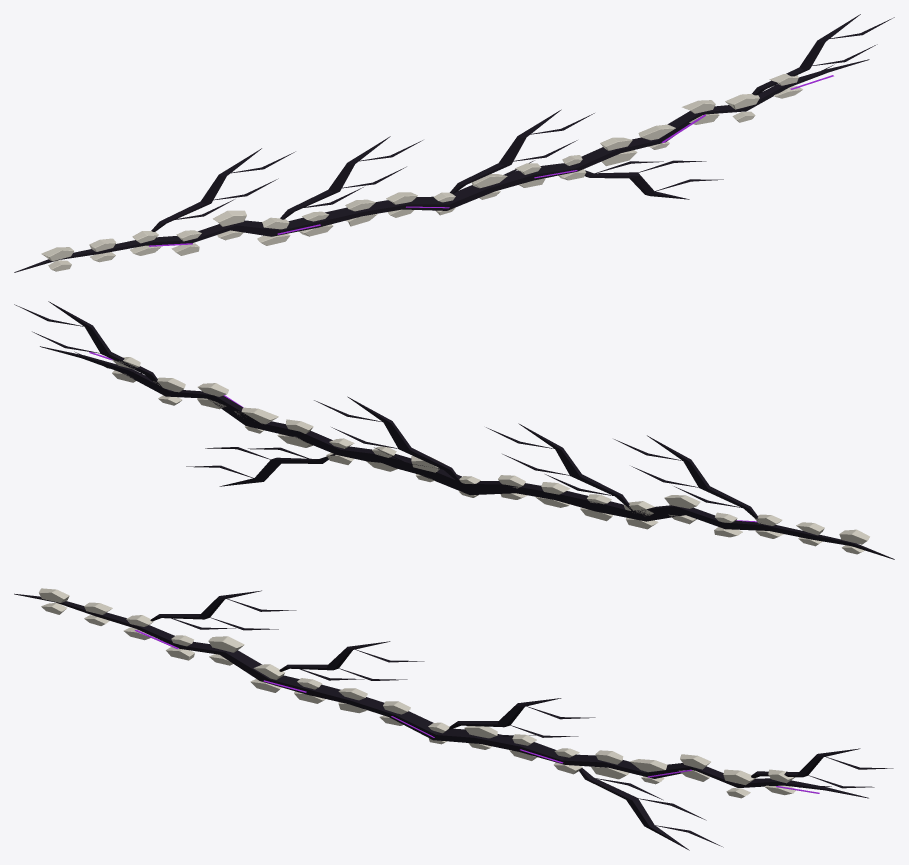
The model's file is SM_Aurelion_KIT_Z09Wound_2.fbx.
3 views of the same model, one above another, from view 1: azimuth 30°, elevation 25°; view 2: azimuth 150°, elevation 25°; view 3: azimuth 330°, elevation 25° (orthographic).
Visible parts, largest first — view 1: SM_Aurelion_KIT_Z09Wound_2; view 2: SM_Aurelion_KIT_Z09Wound_2; view 3: SM_Aurelion_KIT_Z09Wound_2.
Boxes of the visible parts, box(x1,y1,x2,y2) form: SM_Aurelion_KIT_Z09Wound_2: box(14, 14, 894, 272); SM_Aurelion_KIT_Z09Wound_2: box(14, 301, 894, 559); SM_Aurelion_KIT_Z09Wound_2: box(14, 588, 893, 850).
Bounding box in the file's own units: 170 × 2.6 × 28.69.
